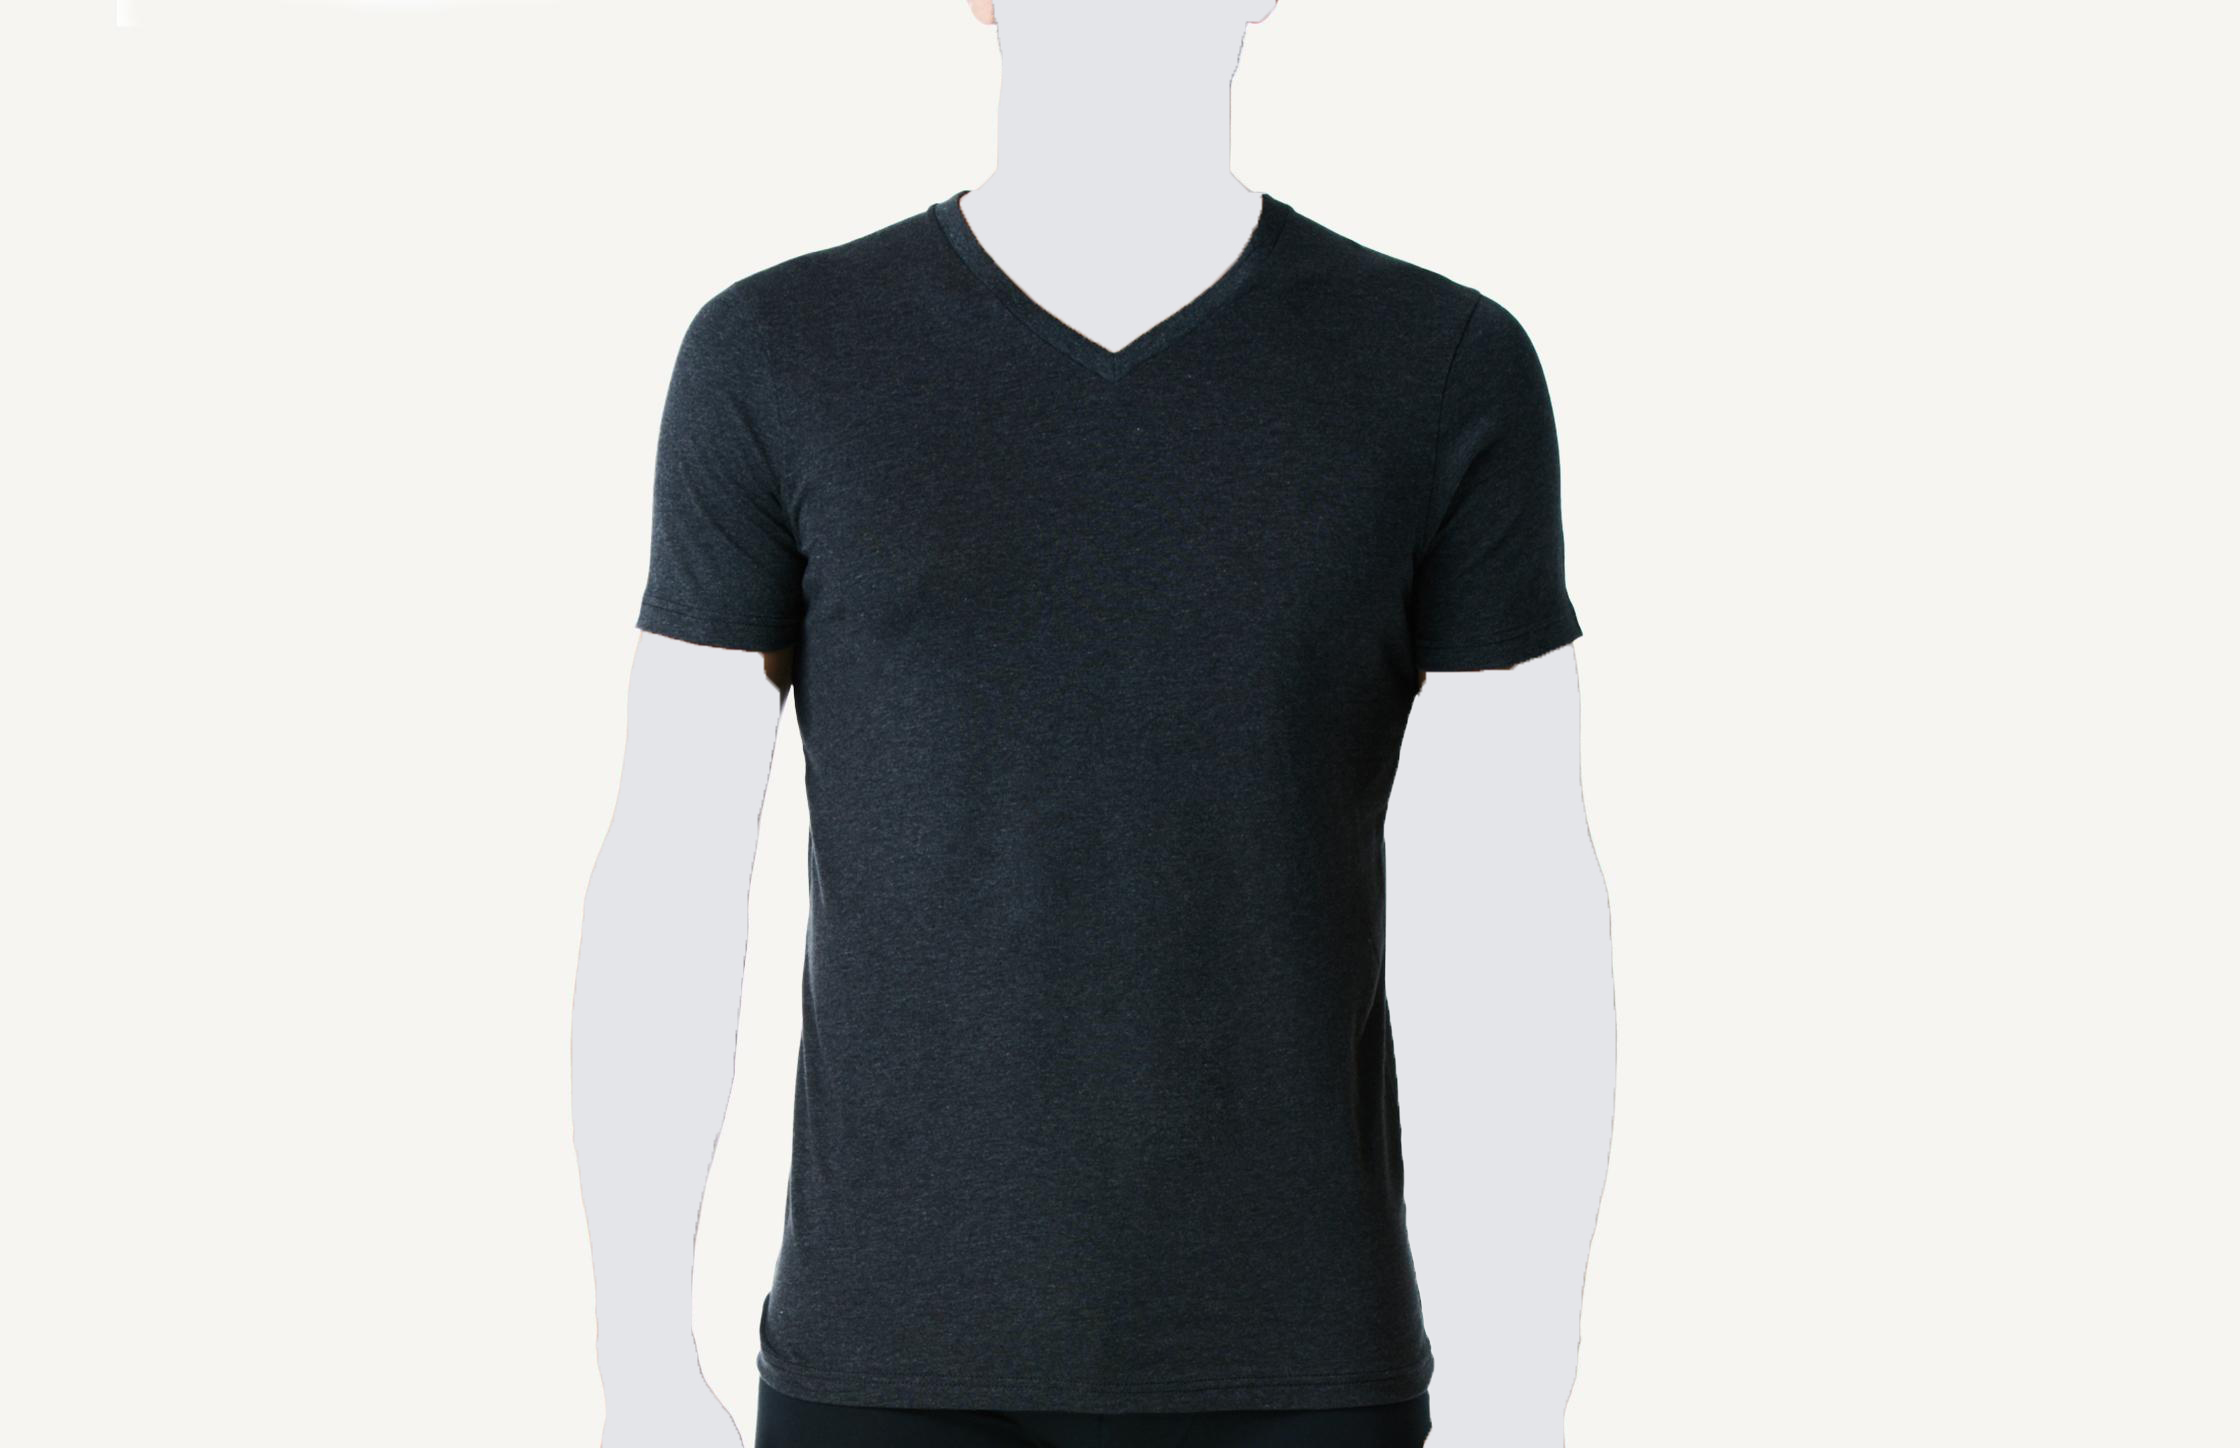teeshirt: (616, 178, 1585, 1448)
